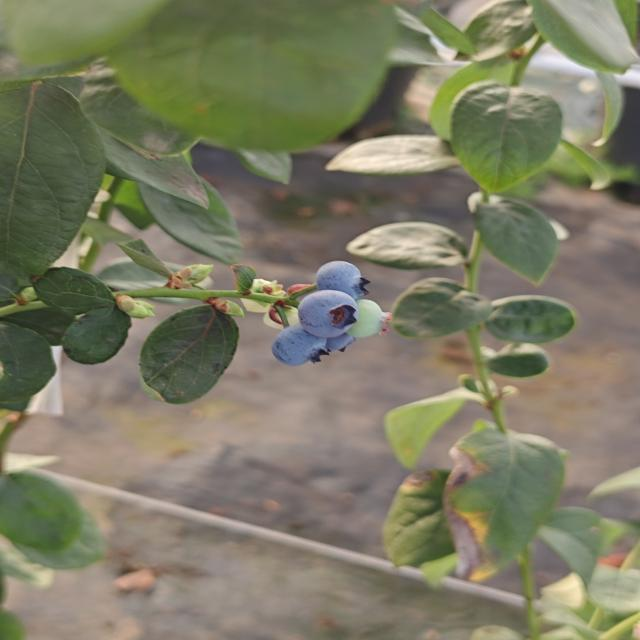ripe: (294, 288, 360, 339), (313, 258, 370, 300), (271, 323, 325, 363)
